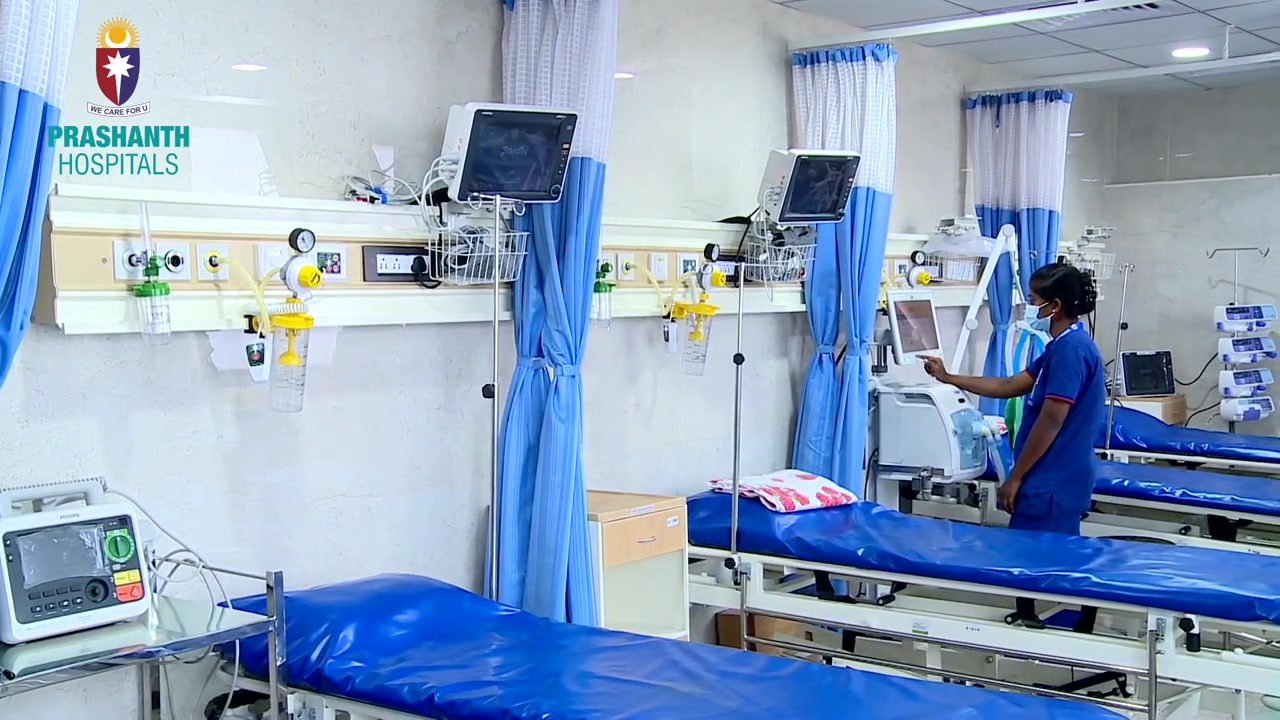bedrail: (737, 577, 1161, 719)
bedside_monitor: (441, 102, 579, 209), (754, 147, 860, 227), (889, 293, 941, 364), (1118, 351, 1177, 396)
bedside_table: (586, 490, 692, 645), (1106, 393, 1188, 429)
breathing_tube: (974, 322, 1044, 481)
curtain: (487, 1, 622, 626), (790, 48, 894, 502), (962, 90, 1074, 444), (1, 1, 74, 398)
handle: (637, 534, 657, 544)
hospital_bed: (687, 467, 1280, 720), (218, 572, 1132, 720), (1076, 459, 1280, 545), (1094, 396, 1280, 468)
iv_pole: (705, 253, 787, 563), (468, 192, 525, 602), (1104, 261, 1134, 456), (1206, 244, 1270, 303)
staff: (914, 263, 1106, 533)
syringe_pump: (1213, 306, 1277, 333), (1217, 337, 1277, 364), (1219, 368, 1274, 396), (1221, 397, 1275, 422)
utility_cart: (1, 552, 288, 720)
ventilator: (877, 376, 995, 484)
